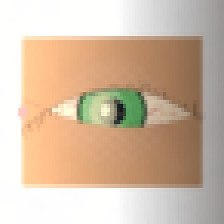corneal_ulcer: (74, 88, 132, 134)
